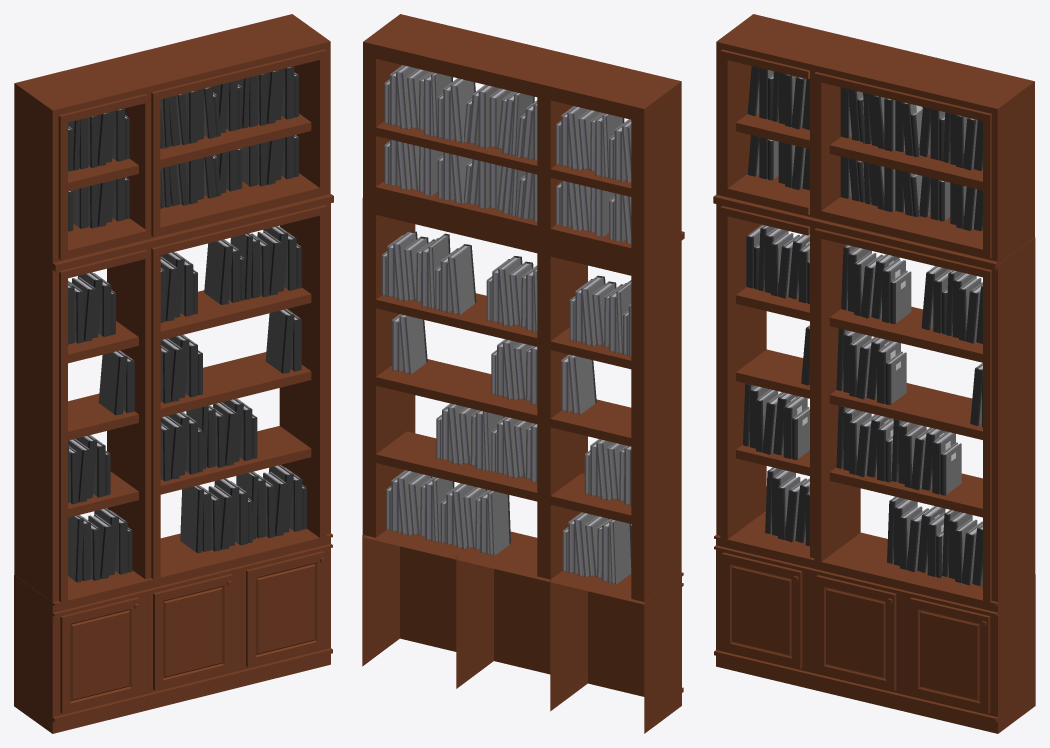
File: Obj_BookShelf_Wall.fbx
3 views of the same model, side by side, from view 1: azimuth 30°, elevation 25°; view 2: azimuth 150°, elevation 25°; view 3: azimuth 330°, elevation 25° (orthographic).
Parts seen in each view (by area): view 1: Obj_BookCase004, Obj_BookCase003, Box018, Box017, Box019, Obj_Journal058, Obj_Journal048, Obj_Journal057, Obj_Journal051, Obj_Journal045, Obj_Journal054, Obj_Journal052 (+9 smaller); view 2: Obj_BookCase004, Obj_BookCase003, Obj_Journal058, Box017, Box018, Box019, Obj_Journal057, Obj_Journal048, Obj_Journal051, Obj_Journal045, Obj_Journal039, Obj_Journal054 (+9 smaller); view 3: Obj_BookCase004, Obj_BookCase003, Box019, Box017, Box018, Obj_Journal058, Obj_Journal057, Obj_Journal047, Obj_Journal052, Obj_Journal050, Obj_Journal039, Obj_Journal043 (+6 smaller).
Boxes of the visible parts, bbox=[...] form: Obj_BookCase004: bbox=[107, 14, 333, 579]; Obj_BookCase003: bbox=[14, 60, 148, 602]; Box018: bbox=[14, 570, 147, 733]; Box017: bbox=[145, 533, 240, 710]; Box019: bbox=[228, 528, 332, 687]; Obj_Journal058: bbox=[160, 66, 298, 208]; Obj_Journal048: bbox=[204, 226, 301, 304]; Obj_Journal057: bbox=[68, 108, 129, 231]; Obj_Journal051: bbox=[180, 478, 252, 553]; Obj_Journal045: bbox=[68, 508, 132, 582]; Obj_Journal054: bbox=[236, 465, 306, 539]; Obj_Journal052: bbox=[186, 398, 257, 469]; Obj_BookCase004: bbox=[362, 14, 587, 579]; Obj_BookCase003: bbox=[550, 59, 684, 601]; Obj_Journal058: bbox=[384, 65, 537, 221]; Box017: bbox=[456, 531, 587, 711]; Box018: bbox=[550, 570, 683, 733]; Box019: bbox=[362, 529, 493, 685]; Obj_Journal057: bbox=[556, 106, 631, 243]; Obj_Journal048: bbox=[381, 230, 476, 314]; Obj_Journal051: bbox=[440, 483, 510, 555]; Obj_Journal045: bbox=[562, 512, 631, 584]; Obj_Journal039: bbox=[569, 275, 631, 356]; Obj_Journal054: bbox=[386, 470, 454, 542]; Obj_BookCase004: bbox=[807, 36, 1035, 602]; Obj_BookCase003: bbox=[713, 14, 846, 539]; Box019: bbox=[902, 570, 1035, 733]; Box017: bbox=[808, 532, 916, 711]; Box018: bbox=[714, 511, 809, 688]; Obj_Journal058: bbox=[840, 87, 982, 231]; Obj_Journal057: bbox=[747, 66, 809, 190]; Obj_Journal047: bbox=[841, 245, 911, 323]; Obj_Journal052: bbox=[891, 419, 961, 495]; Obj_Journal050: bbox=[836, 328, 906, 404]; Obj_Journal039: bbox=[746, 224, 809, 304]; Obj_Journal043: bbox=[743, 383, 809, 459].
Size of the model in its own units: 1.2 by 2.55 by 0.3143.
1 material, 1 textured.
